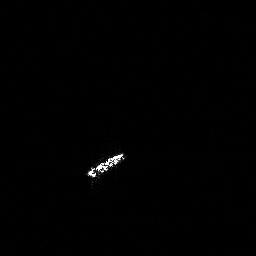ship: (84, 148, 128, 181)
